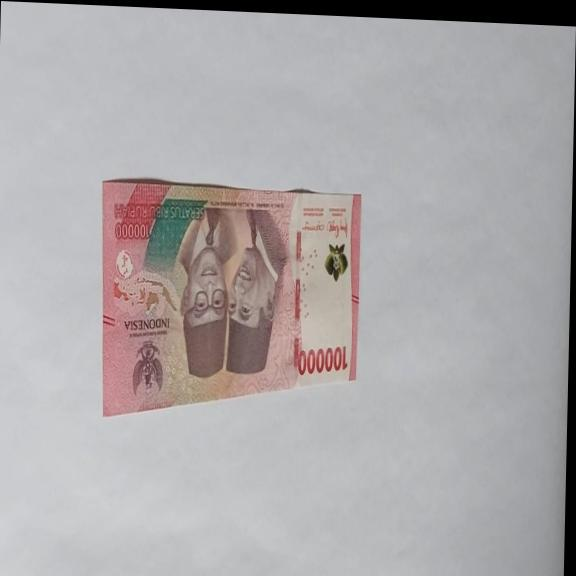Kertas: (96, 177, 361, 429), (296, 343, 349, 379)
